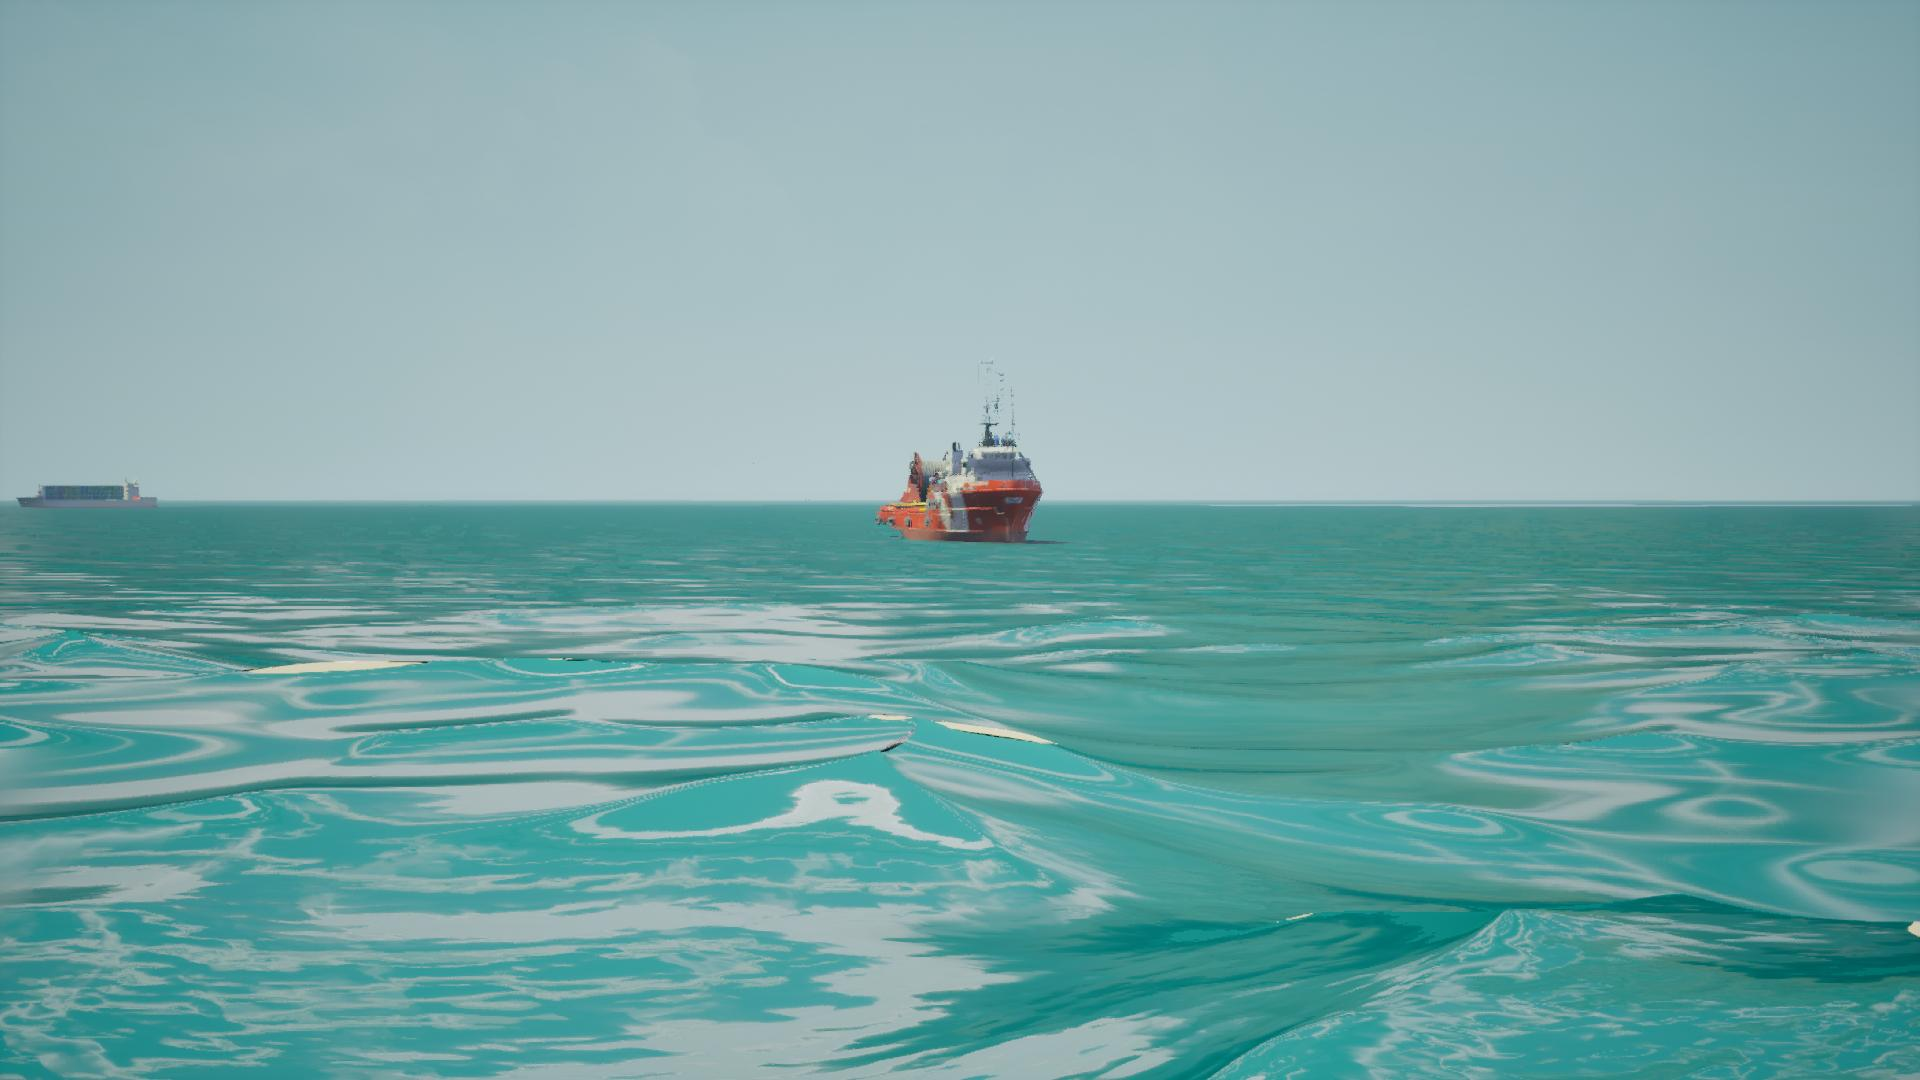Tug Boat: (881, 363, 1048, 545)
